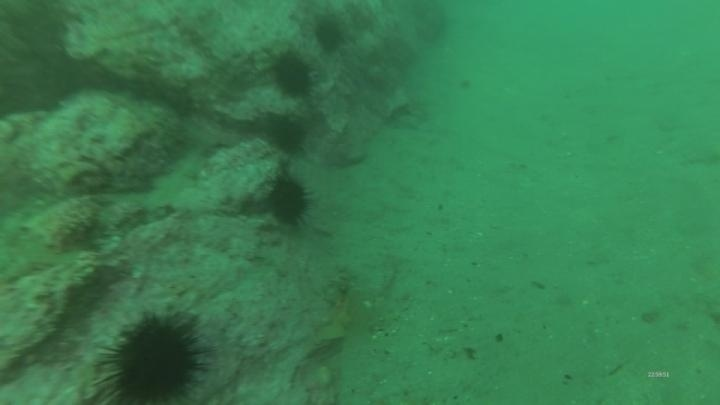echinus: (94, 309, 211, 404), (264, 174, 314, 229), (268, 49, 316, 100), (267, 115, 309, 156), (311, 16, 347, 55)
holothurian: (314, 266, 357, 345)
